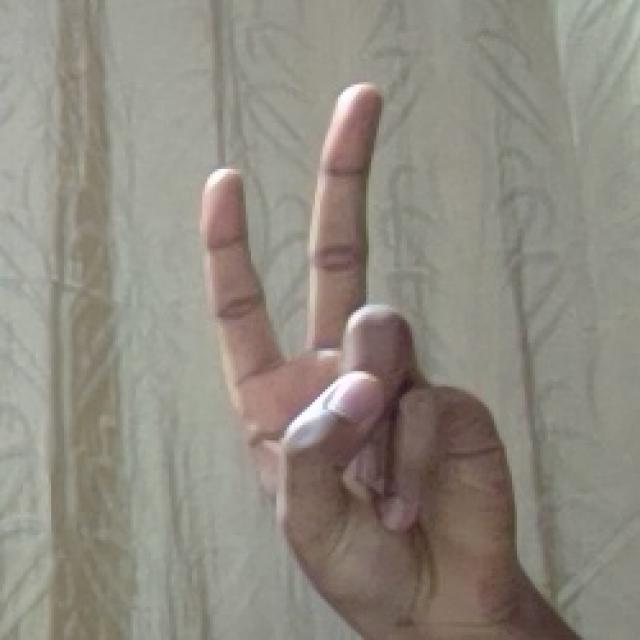Numeric-2: (208, 78, 514, 591)
